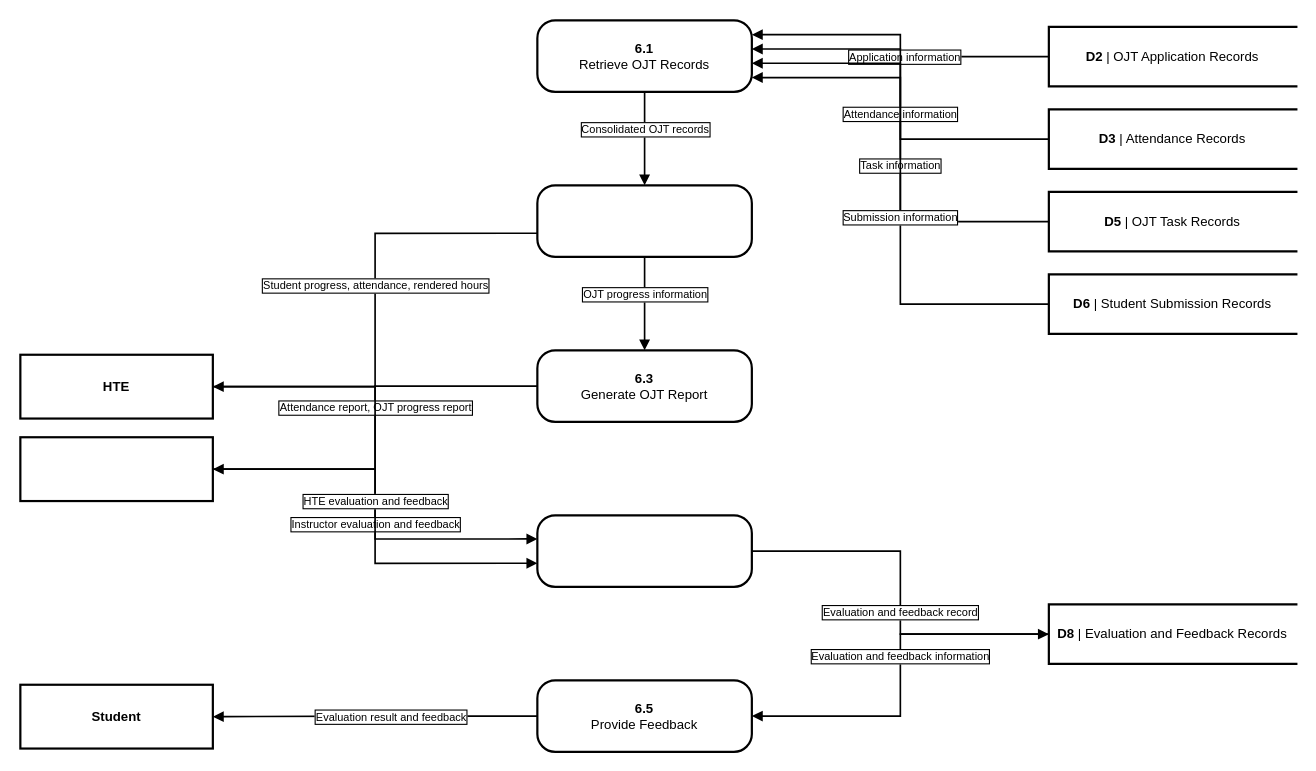
This 1316x771 diagram has some shape labels left out. Each missing label, with the centre of its shape:
"6.2 Monitor OJT Progress" goes at point (644, 220).
"6.4 Record Evaluation" goes at point (644, 550).
"OJT Instructor" goes at point (116, 469).
